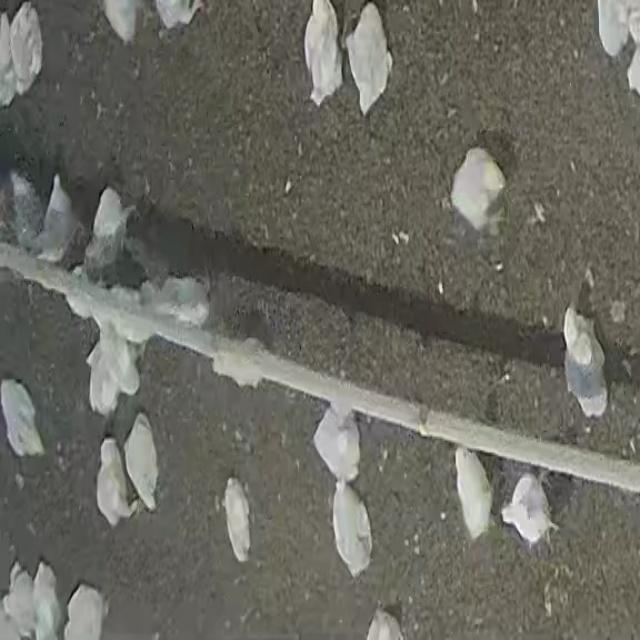chicken: (562, 305, 609, 419), (344, 4, 390, 116), (450, 148, 506, 239), (85, 184, 135, 279), (499, 472, 557, 549), (303, 1, 344, 104), (331, 482, 373, 578), (33, 174, 77, 264), (454, 446, 494, 543), (311, 405, 360, 484), (123, 413, 160, 510), (95, 438, 134, 528), (1, 380, 45, 458), (8, 2, 44, 96), (150, 273, 210, 329), (8, 171, 46, 255), (86, 330, 123, 415), (2, 561, 41, 640), (224, 477, 254, 565), (31, 562, 63, 640), (64, 582, 108, 638), (596, 1, 630, 58)
